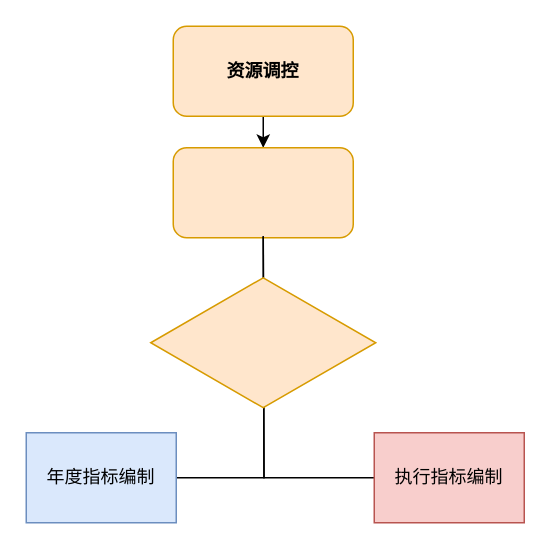
Image size: 551x549. Some labels were removed from this diagram. The shapes that lost their labels are listed below. From the top down, each one's centre as x and y in pixels, then its label:
At point (262, 192): "方案管理".
At point (262, 342): "指标管理".
